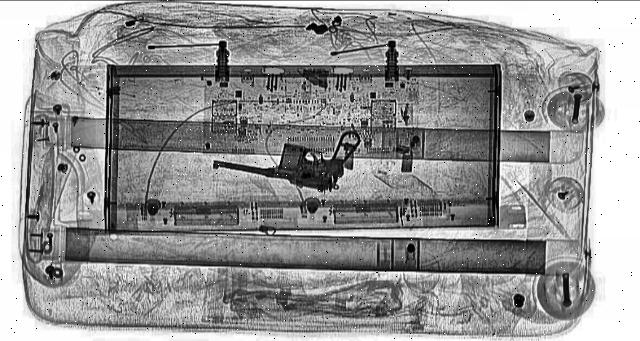Gun: (200, 113, 376, 193)
